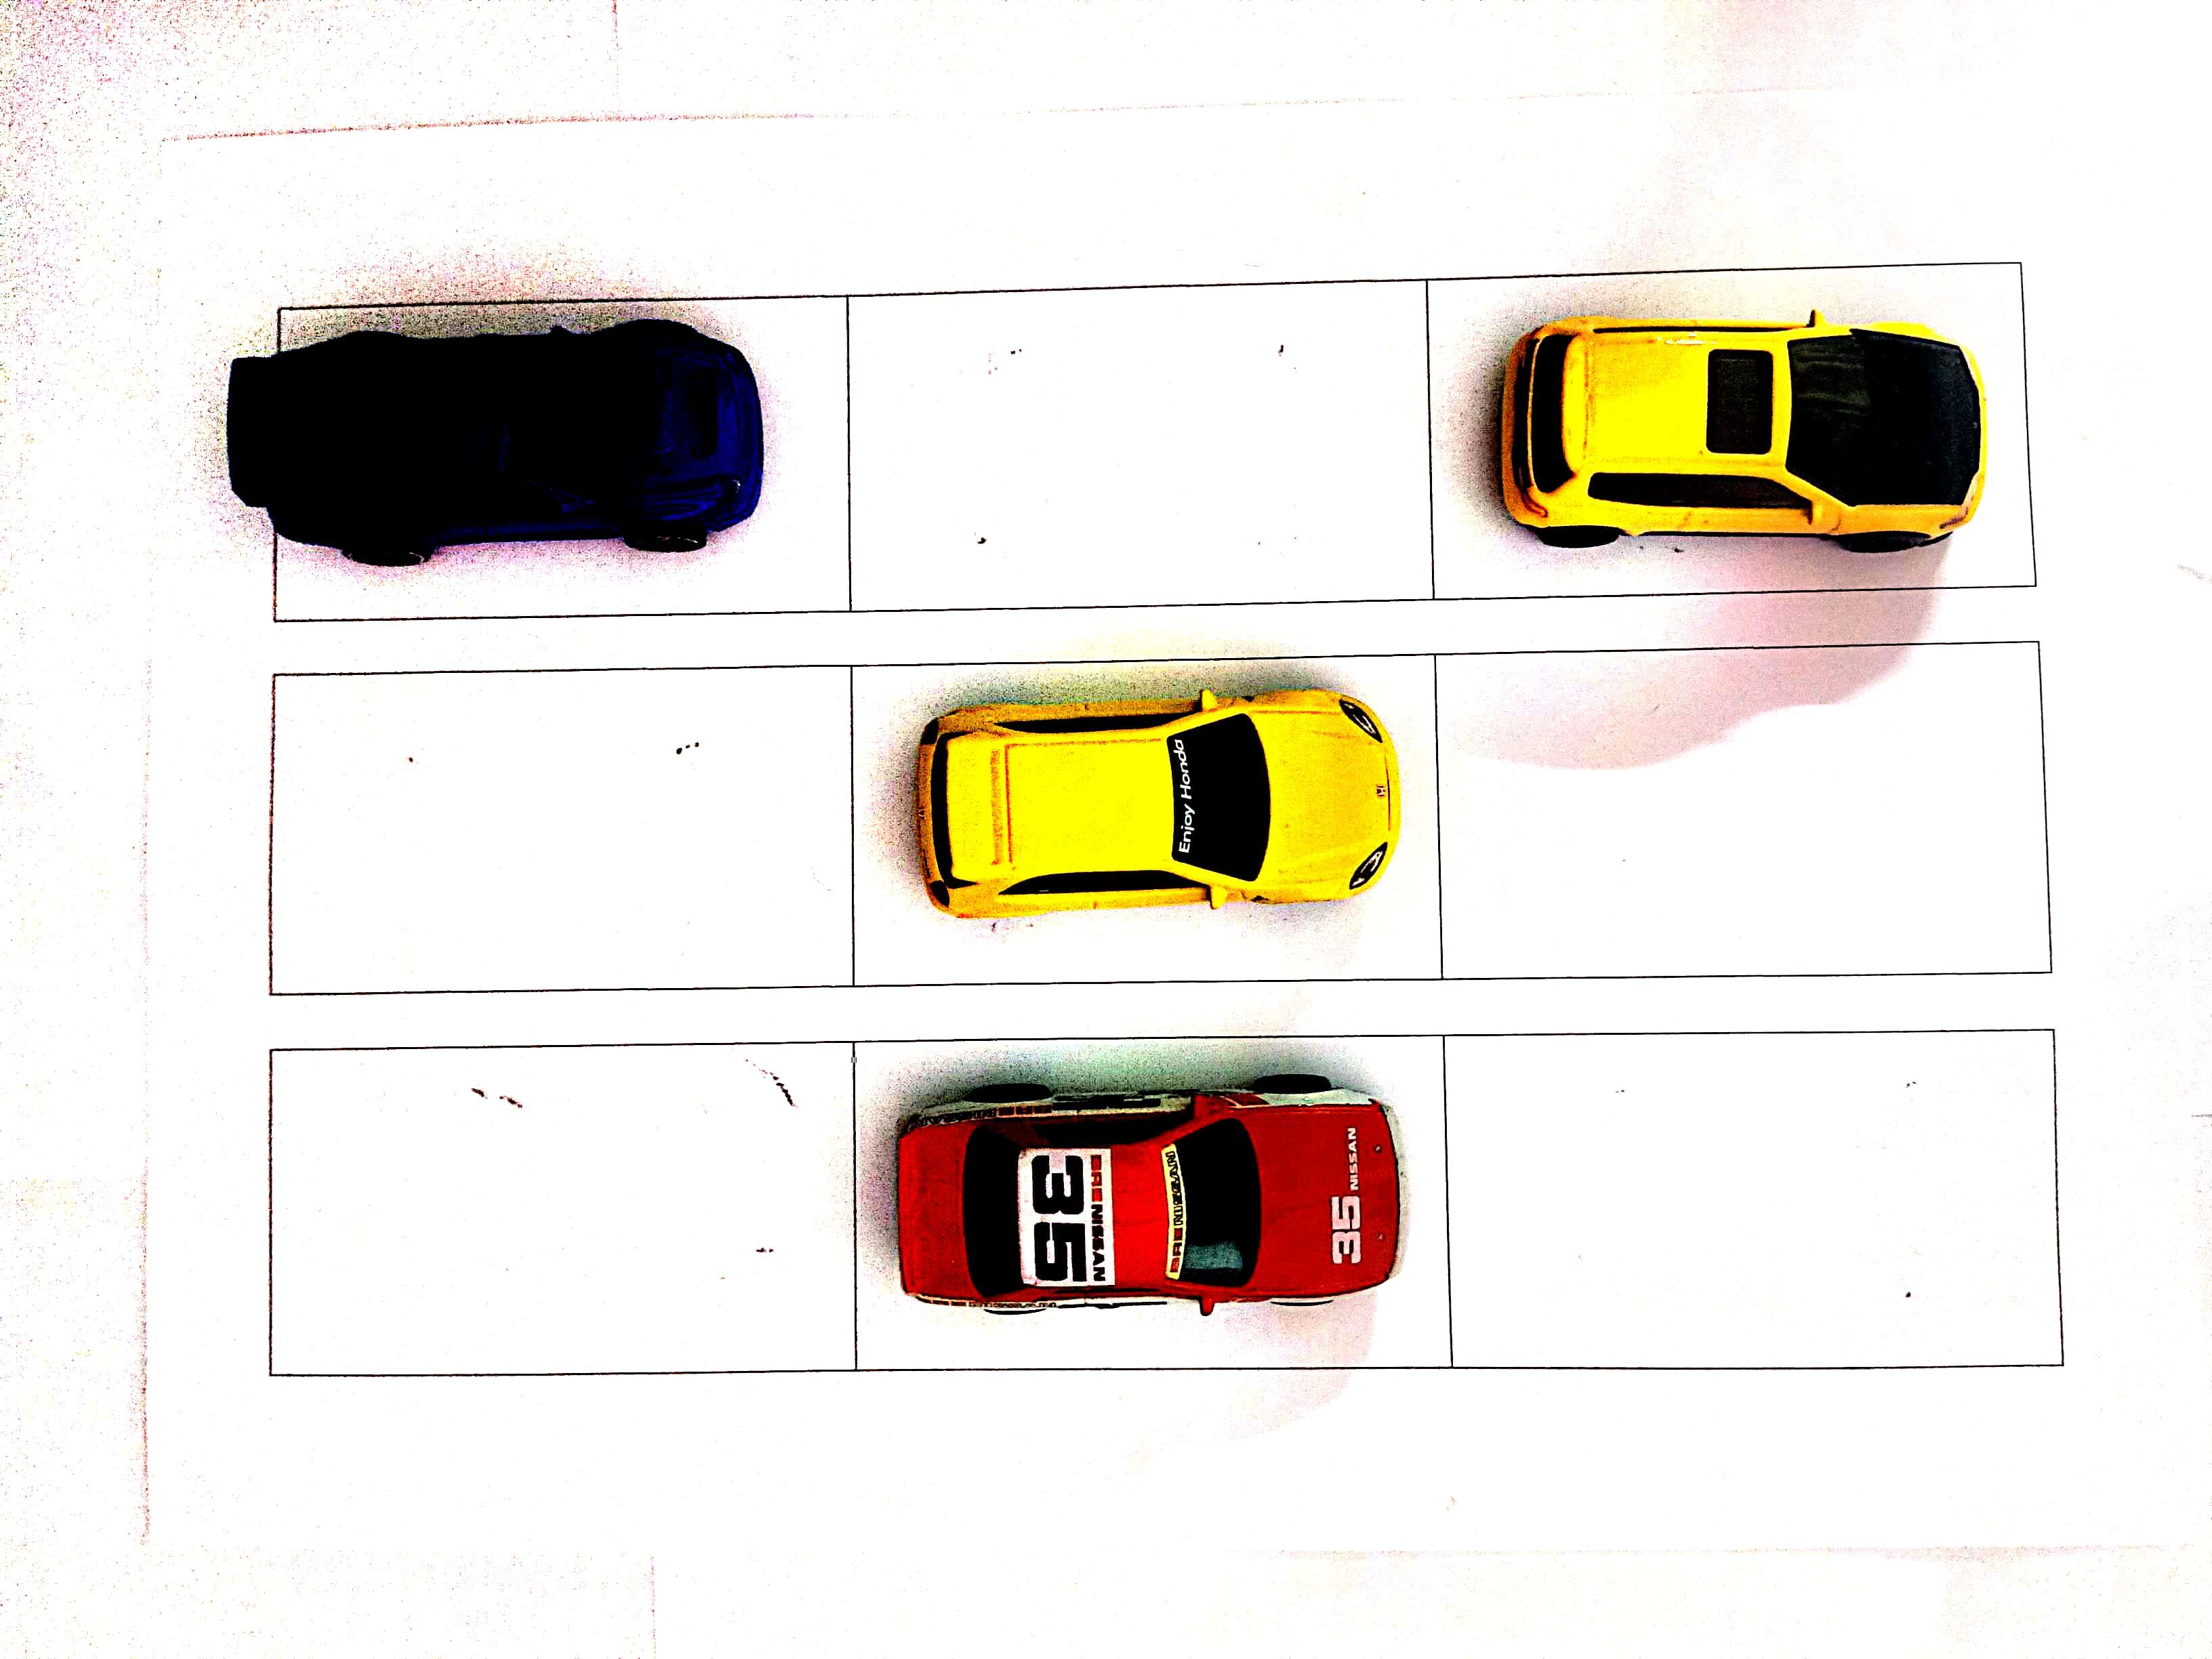Busy: (860, 1032, 1442, 1370), (1437, 261, 2020, 593), (853, 657, 1428, 988), (277, 301, 852, 624)
Free: (1442, 1023, 2054, 1363), (1432, 641, 2033, 979), (273, 1040, 853, 1380), (268, 662, 853, 988), (848, 288, 1433, 603)
